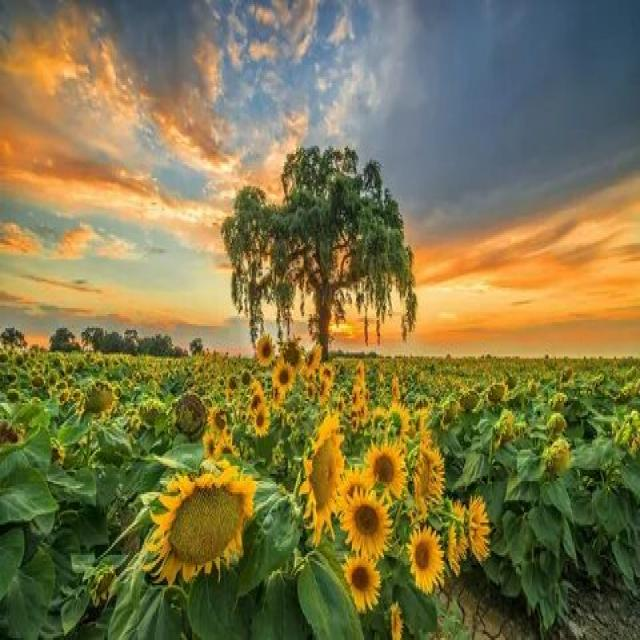sunflower: (148, 454, 255, 593), (299, 411, 348, 545), (338, 476, 394, 559), (404, 520, 448, 604), (365, 444, 404, 511), (252, 328, 277, 371), (302, 338, 326, 381), (252, 401, 276, 437)
